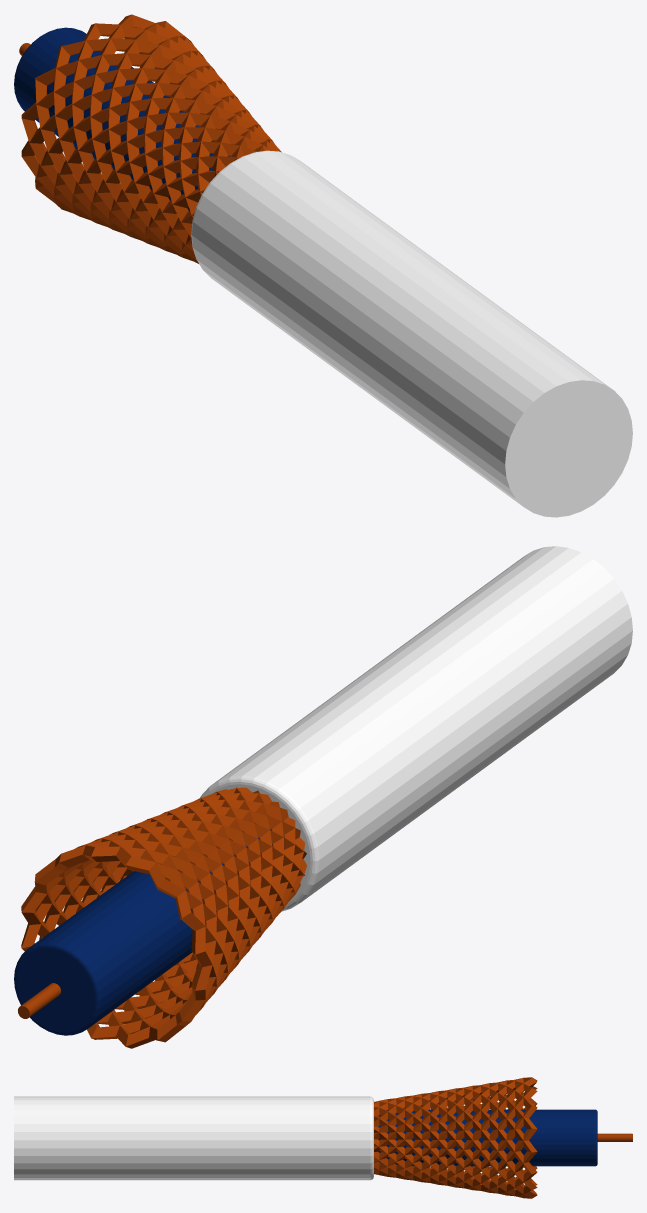
Rendered from Coaxial Cable.fbx.
3 views of the same model, one above another, from view 1: azimuth 30°, elevation 25°; view 2: azimuth 150°, elevation 25°; view 3: azimuth 270°, elevation 25° (orthographic). The views are drawn at different scales.
Visible parts, largest first — view 1: Cylinder, Cylinder.001, Cylinder.002; view 2: Cylinder, Cylinder.001, Cylinder.002, Cylinder.003; view 3: Cylinder, Cylinder.001, Cylinder.002, Cylinder.003.
Part boxes in pixels (bbox=[...]): Cylinder: bbox=[191, 150, 632, 517]; Cylinder.001: bbox=[21, 14, 281, 263]; Cylinder.002: bbox=[14, 27, 230, 210]; Cylinder: bbox=[200, 546, 632, 911]; Cylinder.001: bbox=[21, 787, 306, 1048]; Cylinder.002: bbox=[14, 821, 282, 1035]; Cylinder.003: bbox=[18, 983, 61, 1018]; Cylinder: bbox=[14, 1096, 373, 1180]; Cylinder.001: bbox=[374, 1077, 537, 1198]; Cylinder.002: bbox=[378, 1109, 597, 1166]; Cylinder.003: bbox=[597, 1133, 632, 1141].
Bounding box in the file's own units: 306 × 306 × 1568.
